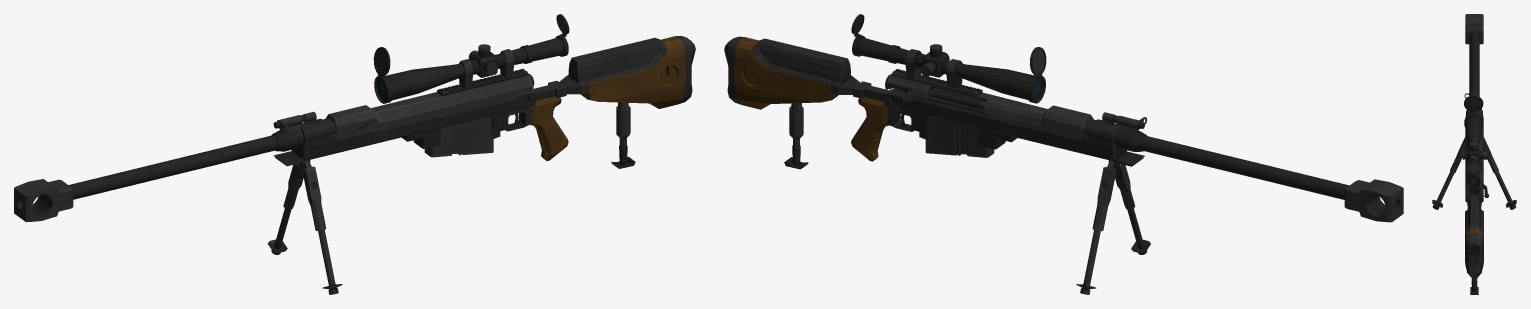
The model's file is pgmurhct2.obj.
The picture shows the model from 3 angles, left to right: view 1: azimuth 30°, elevation 25°; view 2: azimuth 150°, elevation 25°; view 3: azimuth 270°, elevation 25°; orthographic projection. The views are drawn at different scales.
Parts seen in each view (by area): view 1: body, gripstock, boltlaras, magpod, scope; view 2: gripstock, body, boltlaras, magpod, scope; view 3: scope, gripstock, boltlaras, magpod, body.
Part boxes in pixels (x1,y1,x2,y2): body: (273, 68, 535, 166); gripstock: (505, 36, 695, 160); boltlaras: (14, 74, 534, 222); magpod: (267, 102, 635, 294); scope: (373, 14, 569, 103); gripstock: (724, 36, 913, 161); body: (884, 69, 1144, 166); boltlaras: (885, 74, 1403, 222); magpod: (784, 96, 1150, 294); scope: (851, 14, 1046, 103); scope: (1462, 95, 1487, 188); gripstock: (1465, 197, 1483, 278); boltlaras: (1464, 14, 1489, 197); magpod: (1432, 137, 1516, 294); body: (1465, 109, 1483, 206).
Bounding box in the file's own units: 10.16 × 3 × 1.65.
Materials: 7 (5 with a texture image).
